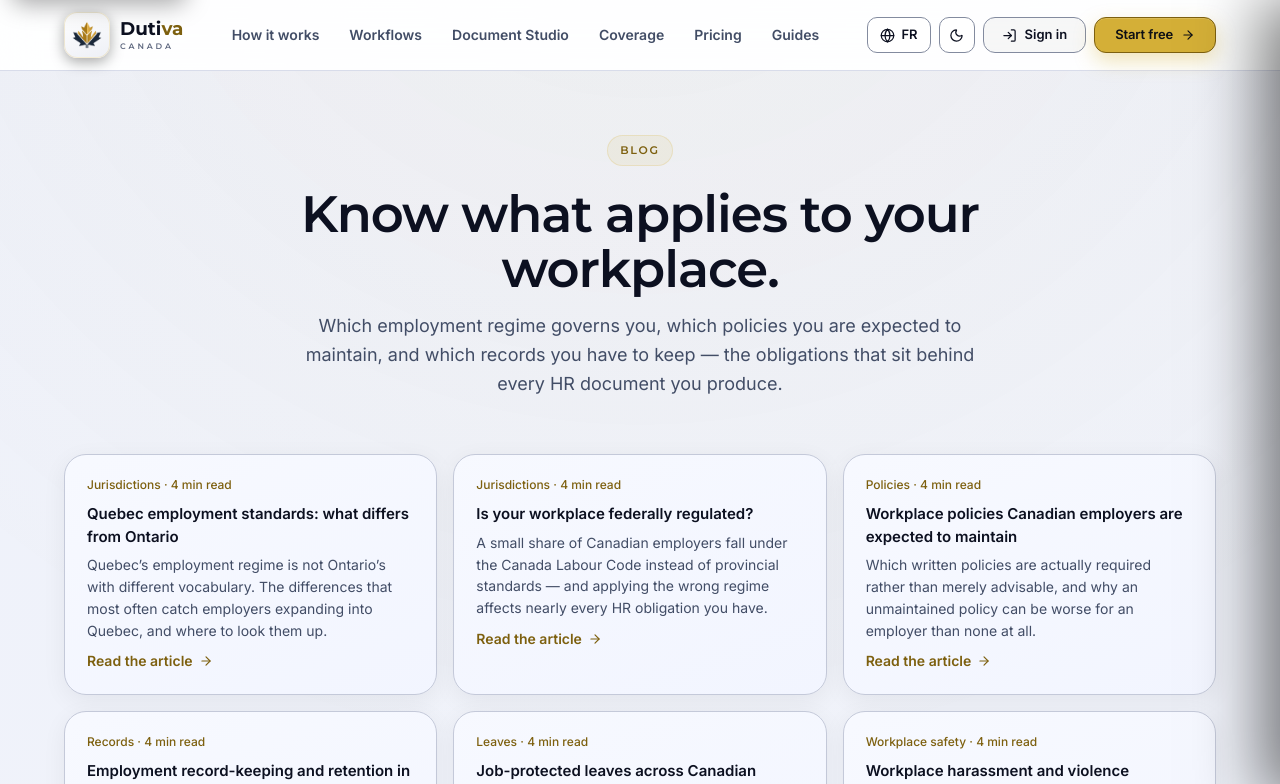
BlogIndexPage › re-localizes to French via the header language toggle
What coordinates should you click on to do the following:
click the button with aria-label "Toggle language"
I would click on:
 (899, 35)
Its box is [868,17,931,53].
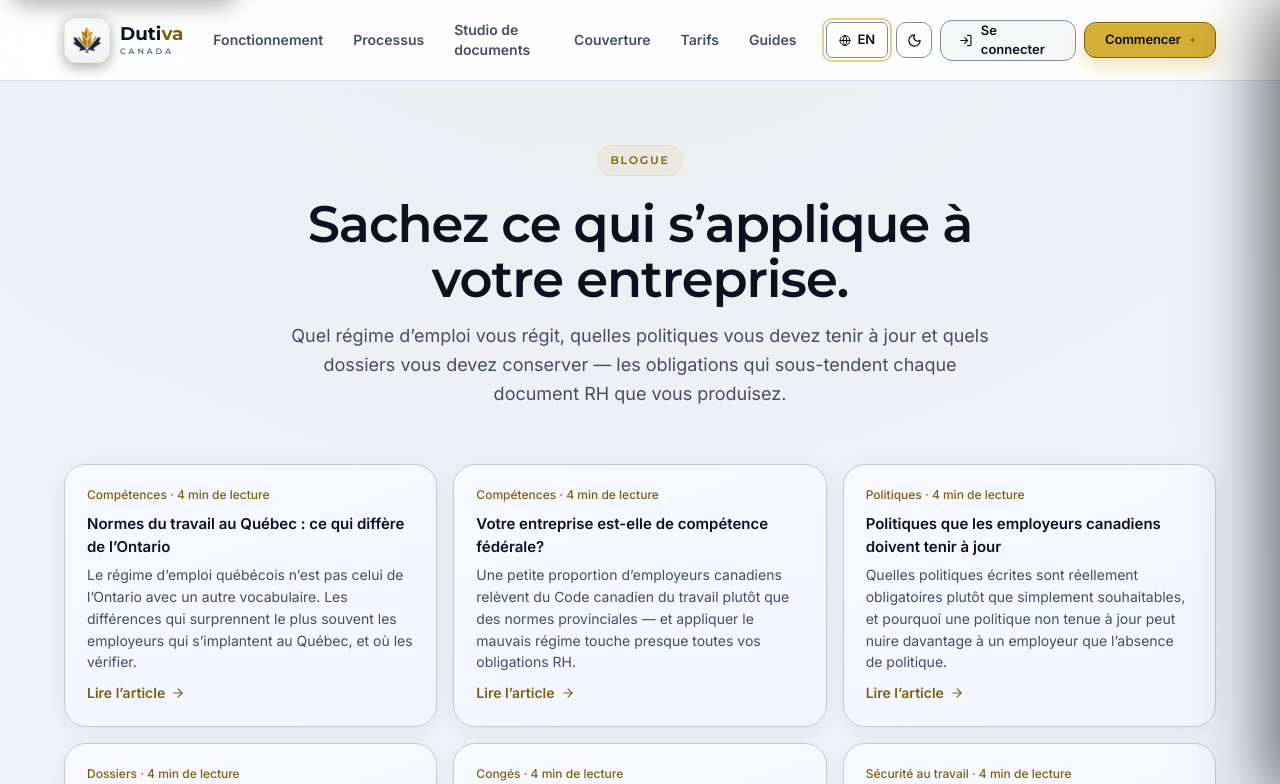
Check: the heading "Sachez ce qui s’applique à votre entreprise." is shown, box [308,192,972,310]
